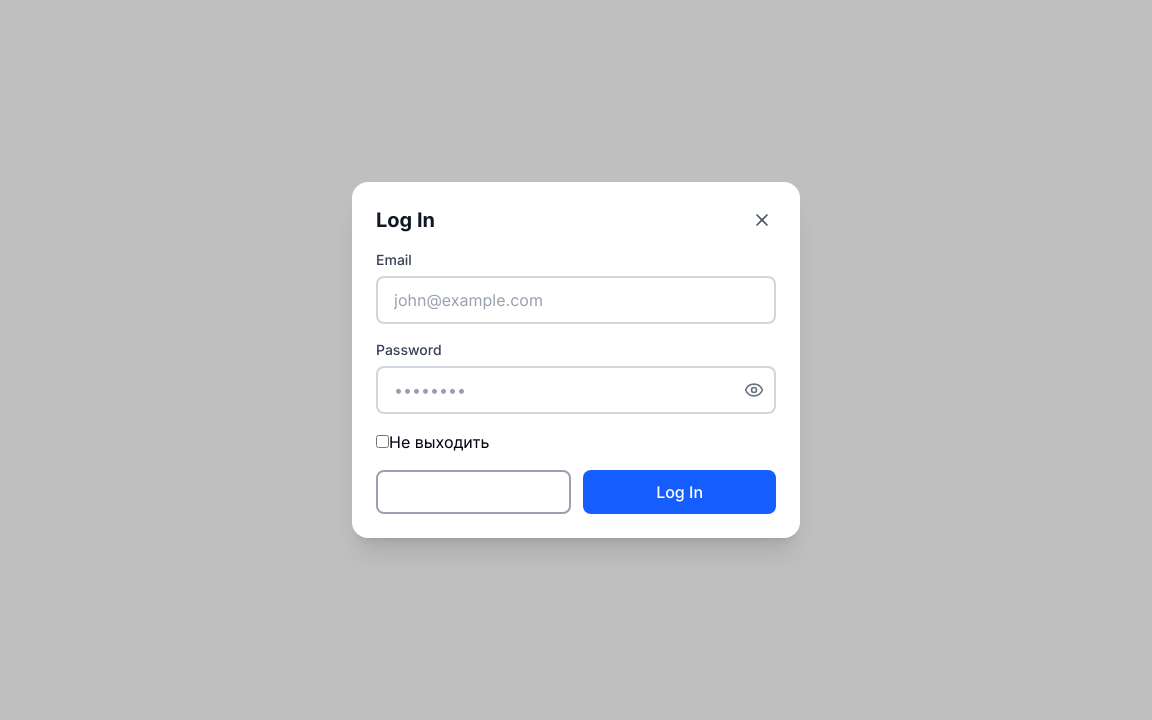
Test: LogInFormModal › should show error for empty password
Type "user@example.com" into the field with placeholder "john@example.com". click: coordinates (576, 300)
box: [376, 276, 776, 324]
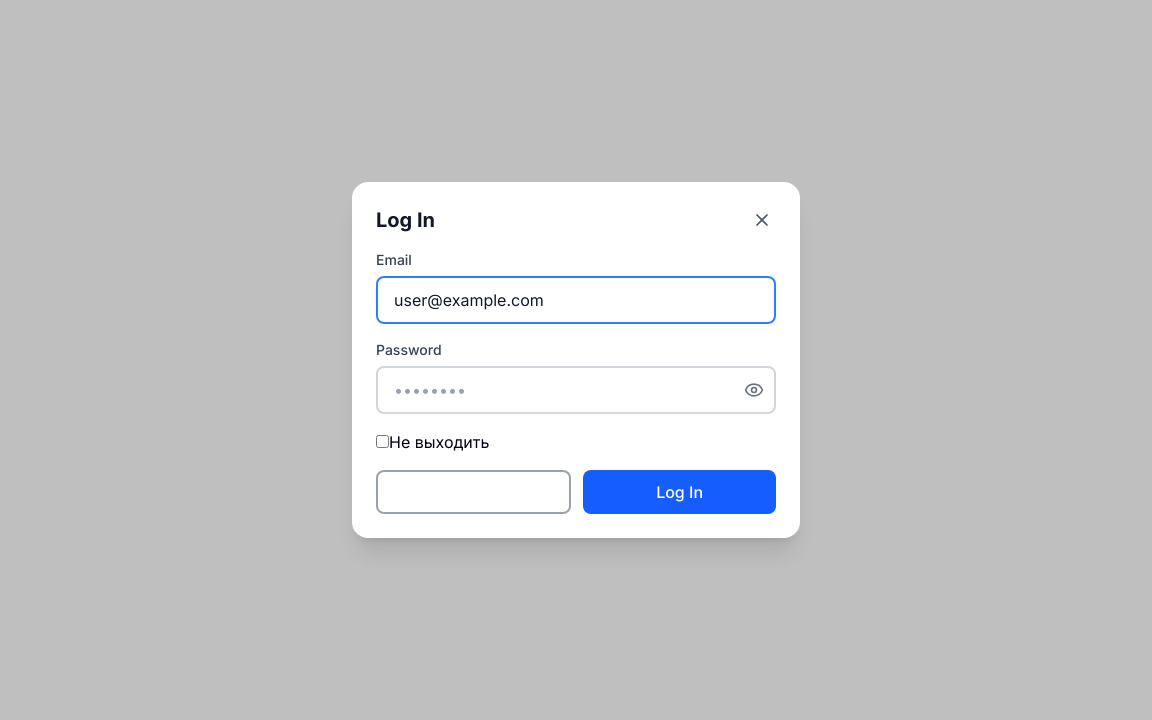
Submit the form, box [376, 250, 776, 514]
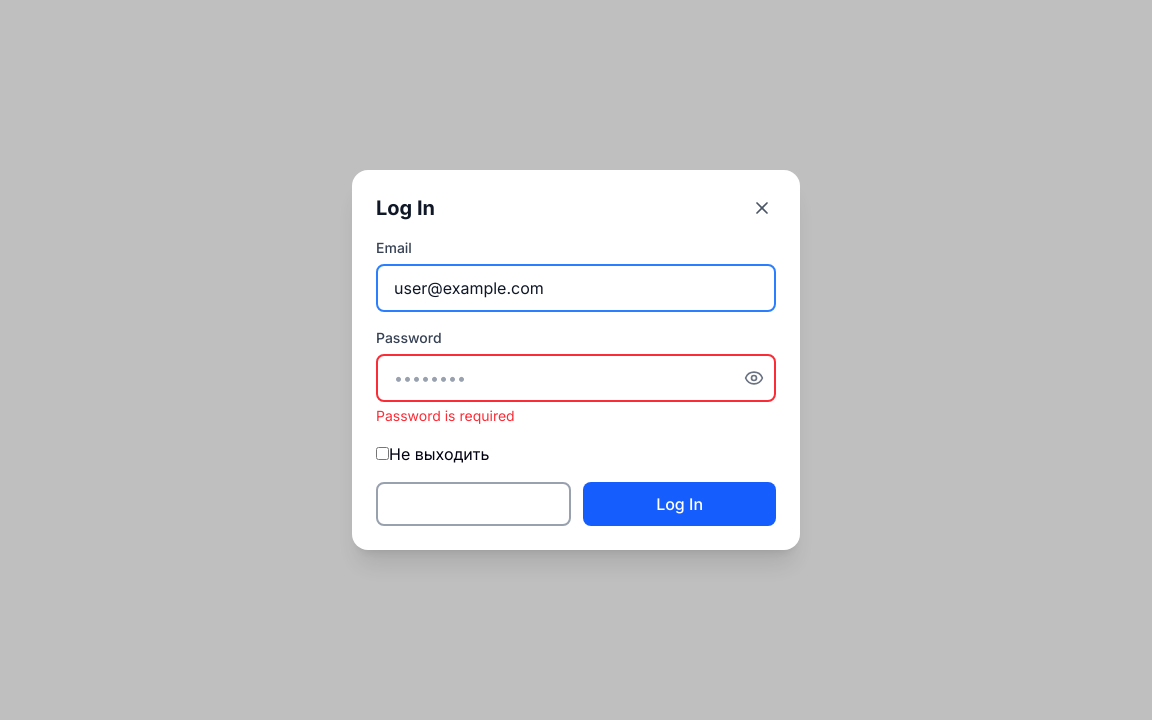
Now the text "Password is required" is shown, box [376, 407, 515, 424]
